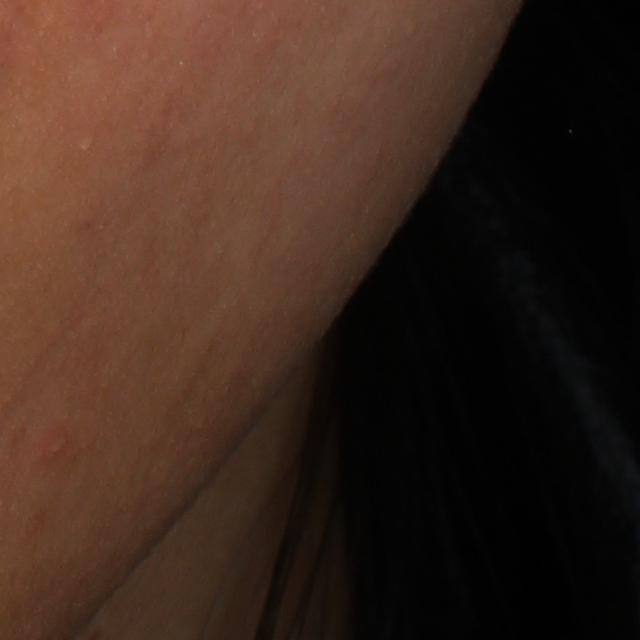papule: (42, 426, 73, 461)
